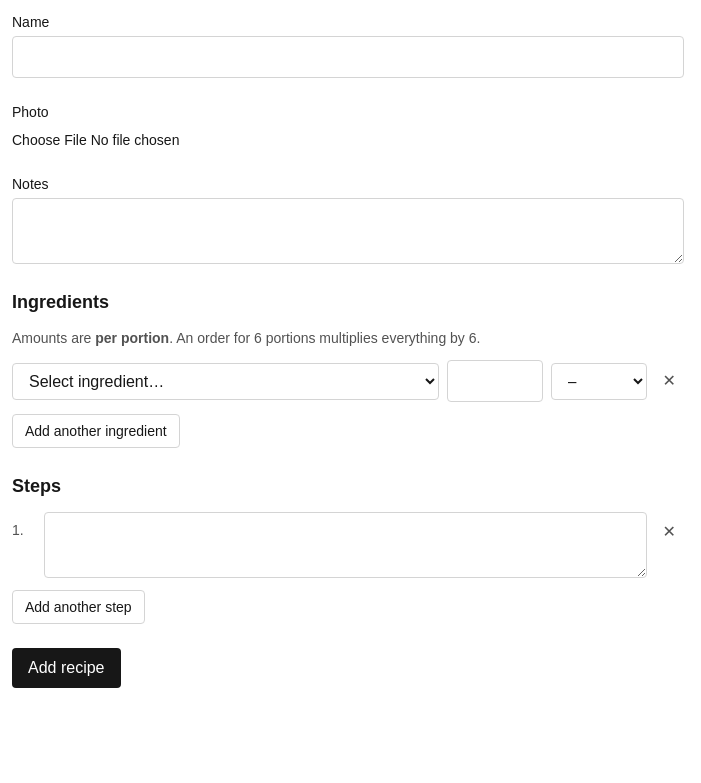
it: RecipeForm › adds and removes ingredient rows and steps
Click the button "Add another ingredient": click(96, 431) [12,414,180,448]
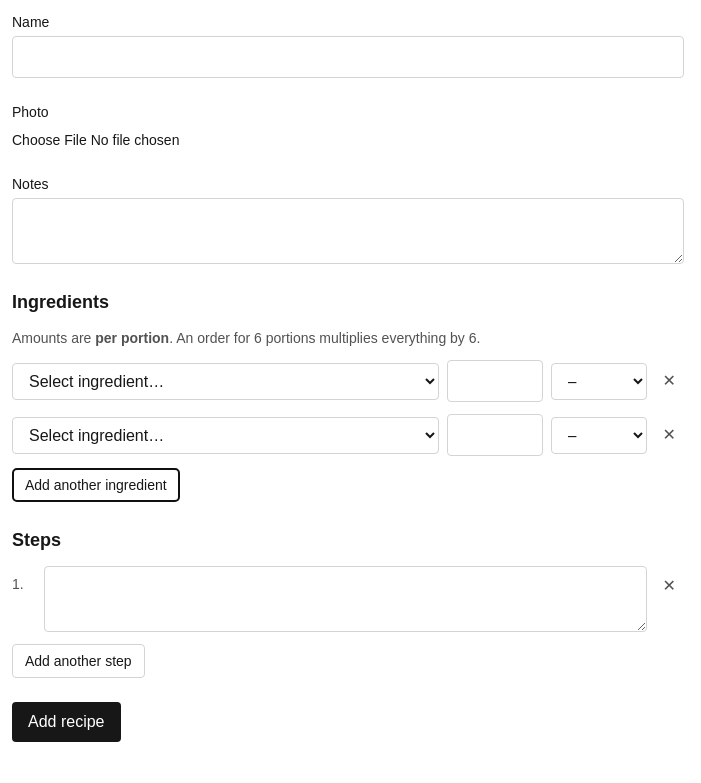
Expected: the number of elements named "ingredient row" is 2, [12,360,684,402]; [12,414,684,456]
Click the button named "Remove ingredient": click(669, 381) [655,369,684,393]
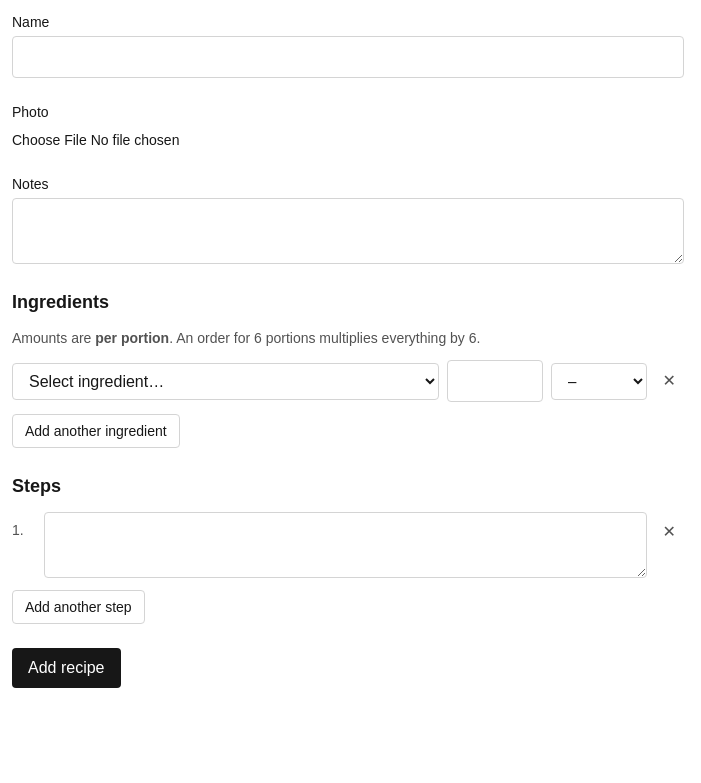
Expected: the number of elements named "ingredient row" is 1, [12,360,684,402]
Click the button "Add another step": click(78, 607) [12,590,145,624]
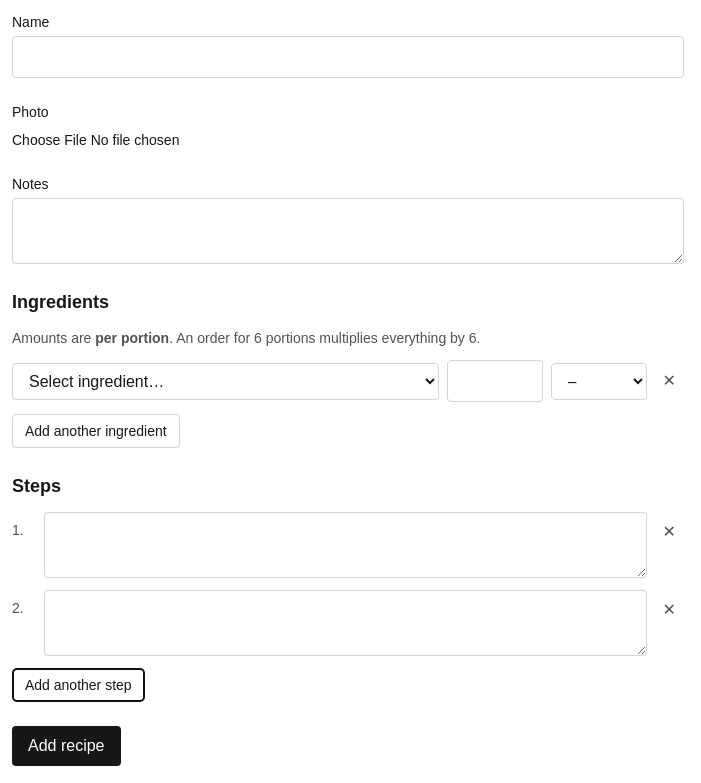
Expected: the number of text boxes labelled "1." is 2, [44,512,647,578]; [44,590,647,656]
Click the button named "Remove step": click(669, 606) [655,590,684,622]
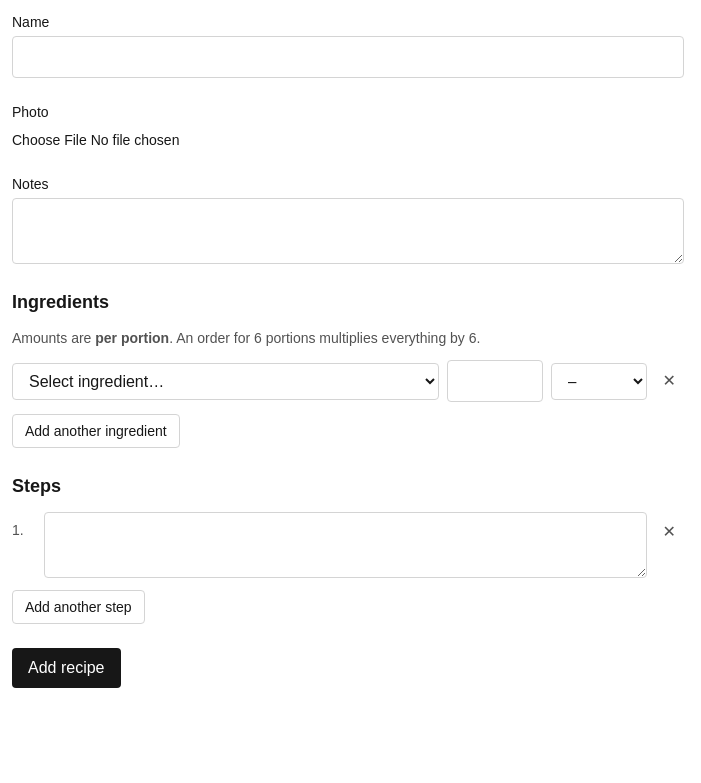
Expected: the number of text boxes labelled "1." is 1, [44,512,647,578]
